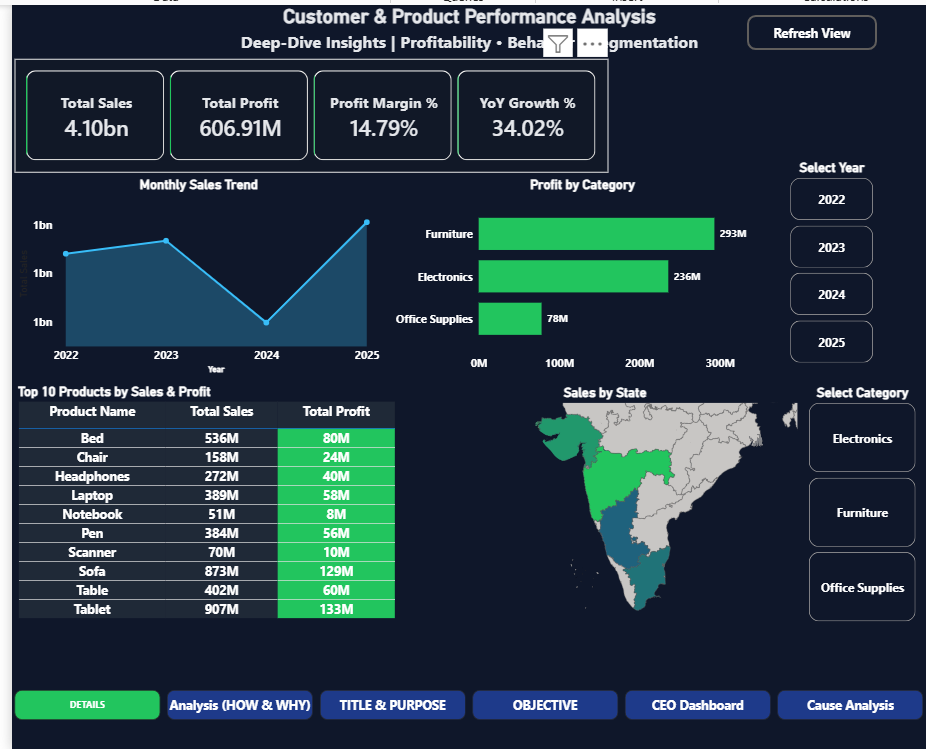

This screenshot's page, from the dashboard's own definition file:
{"tool":"powerbi","page":{"name":"Analysis (HOW & WHY)","canvas":[1350,1100],"ordinal":1},"visuals":[{"type":"textbox","title":"Executive Sales & Profit Overview","box":[0,0,1349.2,75.6],"z":0},{"type":"cardVisual","fields":{"Data":["Customer_Table.Total Customers","Customer_Table.Total Orders","Customer_Table.Avg Order Value","Customer_Table.Customer Profit Margin %"]},"box":[3.7,79.3,1251.5,149.3],"z":1000},{"type":"clusteredBarChart","title":"Profit by Customer Segment","fields":{"Y":["Sales_Fact_Table.Total Profit"],"Category":["Customer_Table.Customer_Segment"]},"box":[1.8,254.4,562.2,294.9],"z":2000},{"type":"tableEx","title":"Top Customers by Sales & Profit","fields":{"Values":["Customer_Table.Customer_ID","Customer_Table.State","Sales_Fact_Table.Total Sales","Sales_Fact_Table.Total Profit"]},"box":[3.7,558.5,576.9,355.7],"z":3000},{"type":"donutChart","title":"Customer Distribution by Segment","fields":{"Category":["Customer_Table.Customer_Segment"],"Y":["Customer_Table.Total Customers"]},"box":[586.1,560.3,576.9,353.9],"z":4000},{"type":"advancedSlicerVisual","title":"Select Customer","fields":{"Values":["Customer_Table.Customer_Segment"]},"box":[1170.4,560.3,167.7,353.9],"z":6000},{"type":"actionButton","box":[1083.8,14.7,191.7,51.6],"z":7000},{"type":"pageNavigator","box":[3.7,1010.1,1345.5,49.8],"z":8000},{"type":"columnChart","title":"Sales vs Profit by Category","fields":{"Category":["Product_Table.Category"],"Y":["Sum(Sales_Fact_Table.Sales_Amount)","Sales_Fact_Table.Total Profit"]},"box":[578.8,254.4,562.2,294.9],"z":9000}]}

Visuals, with their boxes in screenshot pixels (x1, y1, x2, y2), scaled from the page's 1350x1100 canvas onto the 926x749 screenshot:
"Executive Sales & Profit Overview" textbox: box=[0, 0, 925, 51]
cardVisual - Customer_Table.Total Customers x Customer_Table.Total Orders: box=[3, 54, 861, 156]
"Profit by Customer Segment" clusteredBarChart: box=[1, 173, 387, 374]
"Top Customers by Sales & Profit" tableEx: box=[3, 380, 398, 622]
"Customer Distribution by Segment" donutChart: box=[402, 382, 798, 622]
"Select Customer" advancedSlicerVisual: box=[803, 382, 918, 622]
actionButton: box=[743, 10, 875, 45]
pageNavigator: box=[3, 688, 925, 722]
"Sales vs Profit by Category" columnChart: box=[397, 173, 783, 374]
